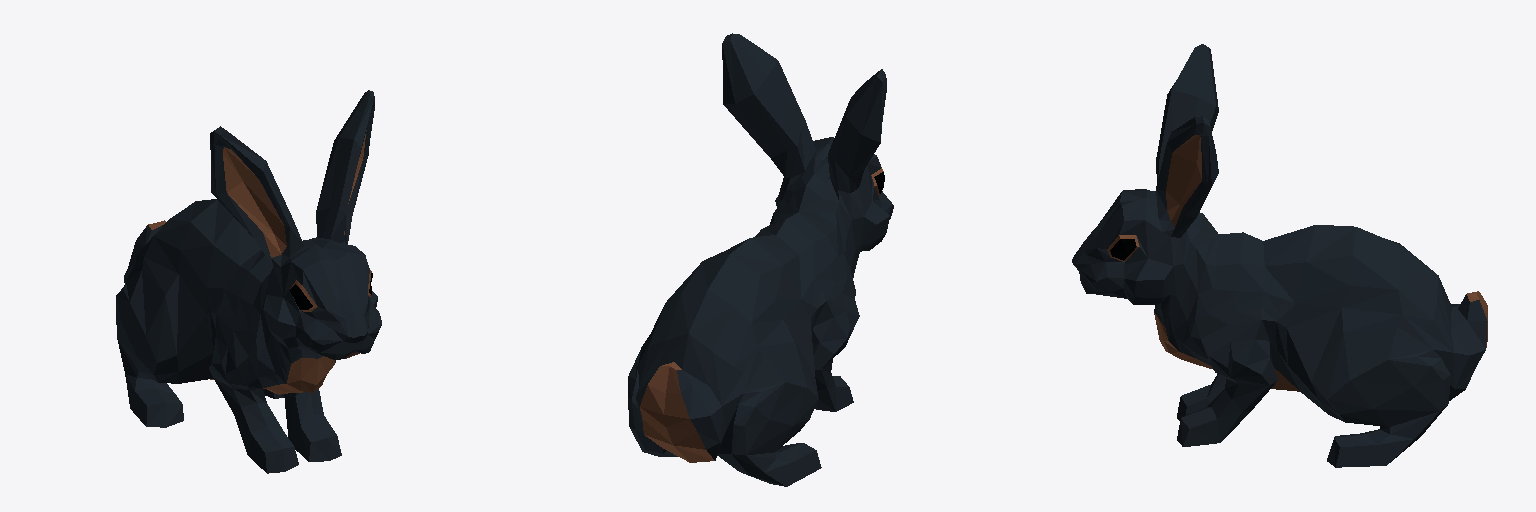
Rendered from gray-rabbit.obj.
3 renders of one model, left to right at view 1: azimuth 30°, elevation 25°; view 2: azimuth 150°, elevation 25°; view 3: azimuth 270°, elevation 25°, orthographic.
Parts seen in each view (by area): view 1: rabbit.001; view 2: rabbit.001; view 3: rabbit.001.
Part boxes in pixels (x1,y1,x2,y2): rabbit.001: (116,90,381,473); rabbit.001: (628,33,893,486); rabbit.001: (1072,44,1487,467).
Bounding box in the file's own units: 1.06 × 2.19 × 2.35.